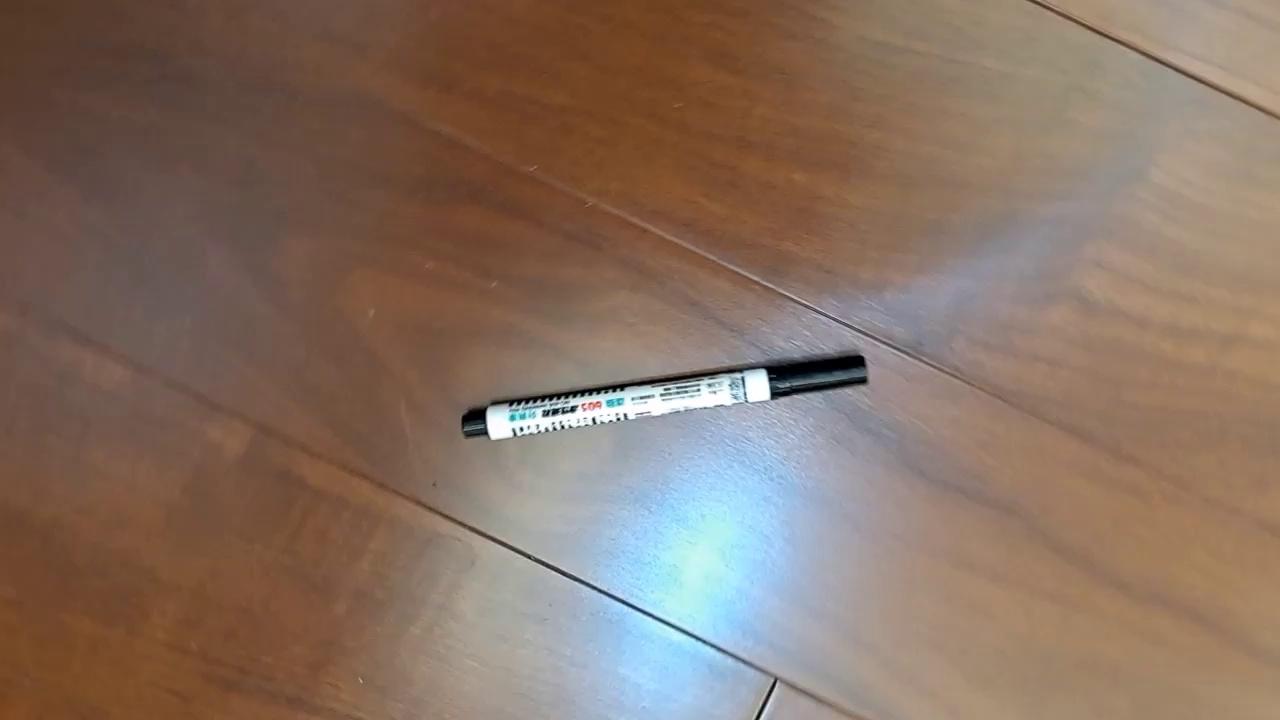pen: (461, 352, 869, 442)
